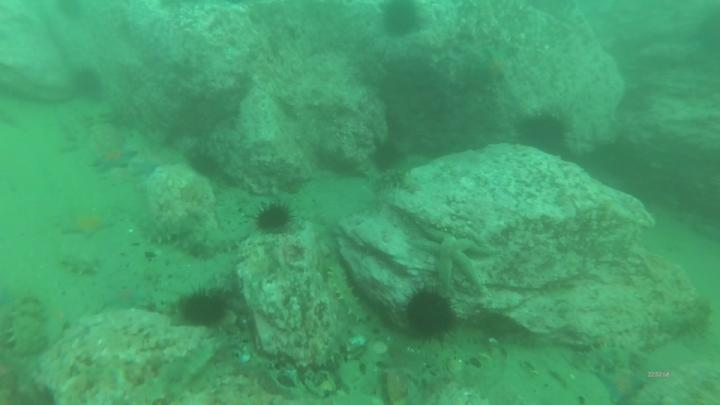echinus: (407, 292, 453, 337), (383, 1, 420, 37), (531, 112, 565, 151), (184, 293, 222, 322), (260, 203, 289, 230), (193, 152, 218, 176)
holothurian: (7, 300, 48, 353), (333, 267, 370, 322), (579, 341, 634, 369), (141, 219, 192, 247), (203, 225, 251, 250), (58, 253, 101, 278), (373, 170, 415, 194), (65, 109, 86, 143)
scallop: (305, 370, 339, 397), (388, 375, 409, 405), (488, 341, 511, 363), (446, 355, 467, 376), (346, 335, 367, 348), (239, 350, 255, 366), (378, 341, 389, 358)
starfish: (409, 227, 492, 288), (600, 370, 644, 403), (65, 207, 113, 235), (100, 146, 131, 171)
